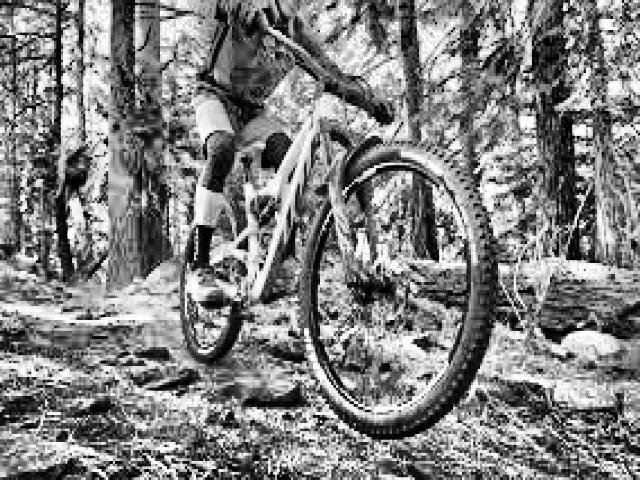cranks_set: (212, 278, 250, 312)
saddle: (227, 137, 267, 164)
wheel: (293, 136, 502, 443), (181, 182, 251, 363)
